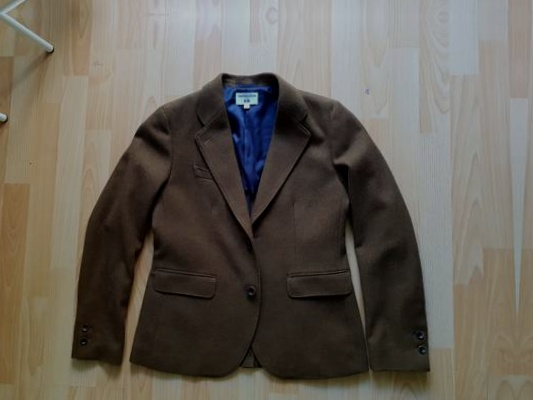Blazer: (66, 83, 410, 378)
